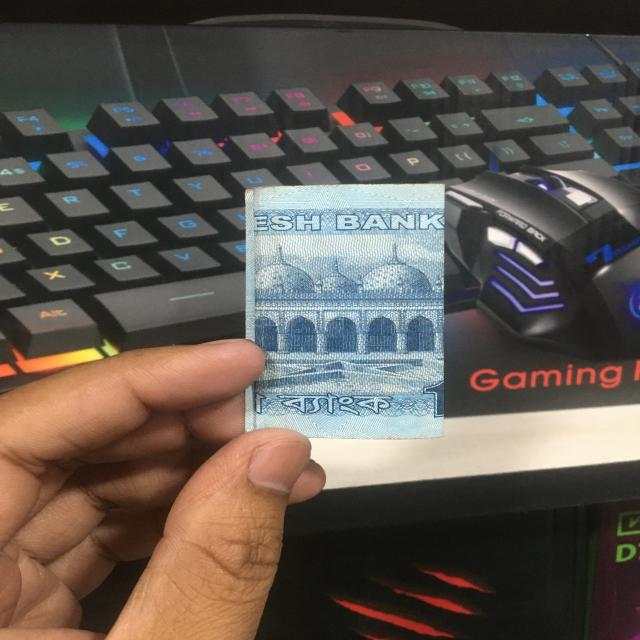Taka: (250, 187, 444, 434)
